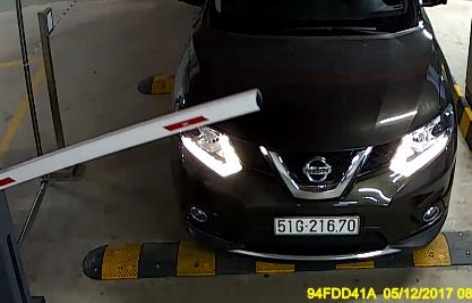plate: (267, 211, 372, 242)
